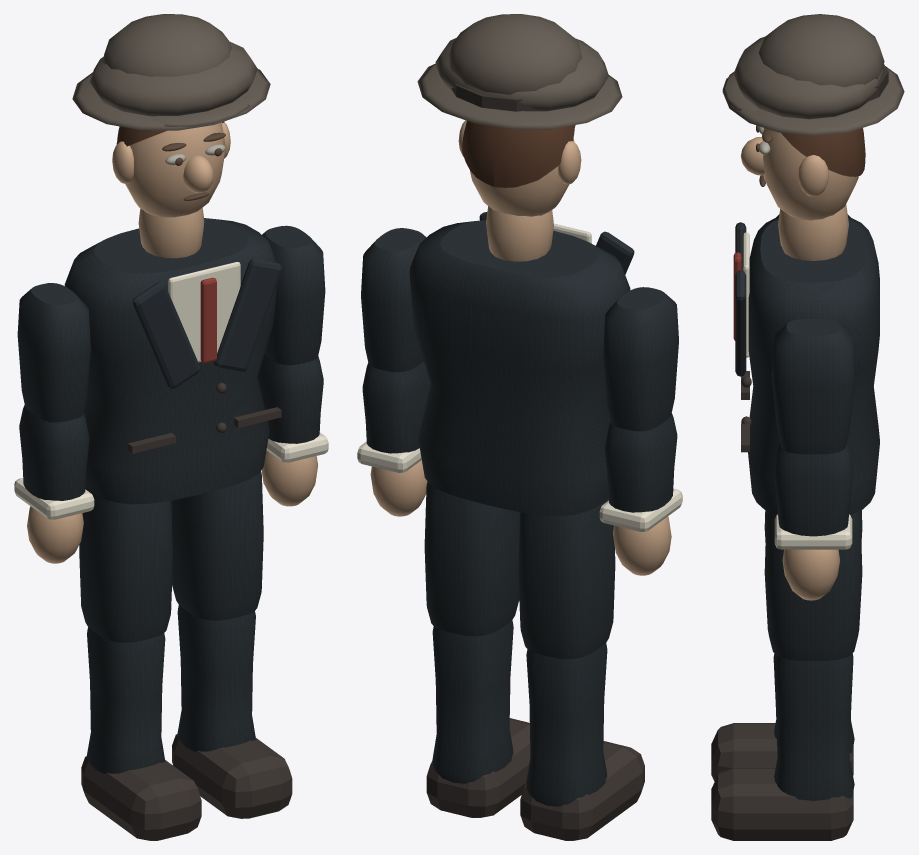
Rendered from person.glb.
3 renders of one model, left to right at view 1: azimuth 30°, elevation 25°; view 2: azimuth 150°, elevation 25°; view 3: azimuth 270°, elevation 25°, orthographic. The views are drawn at different scales.
Parts seen in each view (by area): view 1: jacket, trouser upper, trouser upper.001, neck, trouser lower, trouser lower.001, jacket upper sleeve, shoe, shoe.001, cloth cap crown, jacket upper sleeve.001, fedora crown (+11 smaller); view 2: jacket, trouser upper, trouser upper.001, trouser lower.001, trouser lower, jacket upper sleeve, fedora crown, jacket upper sleeve.001, neck, shoe, jacket forearm, jacket forearm.001 (+10 smaller); view 3: jacket, trouser lower.001, jacket upper sleeve.001, trouser upper.001, neck, shoe.001, fedora crown, jacket forearm.001, cloth cap crown, fedora brim, shoe, hand.001 (+6 smaller).
Part boxes in pixels (x1,y1,x2,y2): jacket: [64, 218, 281, 504]; trouser upper: [79, 487, 172, 642]; trouser upper.001: [171, 471, 263, 620]; neck: [112, 122, 230, 258]; trouser lower: [86, 627, 165, 773]; trouser lower.001: [177, 605, 255, 751]; jacket upper sleeve: [17, 283, 90, 422]; shoe: [81, 756, 201, 840]; shoe.001: [172, 734, 292, 818]; cloth cap crown: [90, 42, 257, 116]; jacket upper sleeve.001: [262, 225, 325, 365]; fedora crown: [102, 14, 231, 76]; jacket: [409, 212, 634, 515]; trouser upper: [518, 498, 615, 659]; trouser upper.001: [424, 481, 520, 636]; trouser lower.001: [432, 620, 513, 783]; trouser lower: [526, 643, 607, 806]; jacket upper sleeve: [603, 287, 678, 431]; fedora crown: [448, 14, 582, 94]; jacket upper sleeve.001: [361, 228, 426, 372]; neck: [458, 120, 581, 261]; shoe: [520, 741, 644, 840]; jacket forearm: [604, 413, 677, 512]; jacket forearm.001: [362, 361, 430, 453]; jacket: [735, 217, 879, 514]; trouser lower.001: [773, 653, 854, 800]; jacket upper sleeve.001: [771, 318, 855, 454]; trouser upper.001: [764, 511, 862, 660]; neck: [740, 128, 858, 260]; shoe.001: [711, 768, 853, 840]; fedora crown: [759, 14, 884, 87]; jacket forearm.001: [773, 442, 853, 536]; cloth cap crown: [733, 36, 883, 119]; fedora brim: [722, 66, 904, 135]; shoe: [711, 723, 853, 781]; hand.001: [782, 549, 839, 600].
Size of the model in its own units: 0.76 by 1.95 by 0.435.
9 materials, 1 textured.
